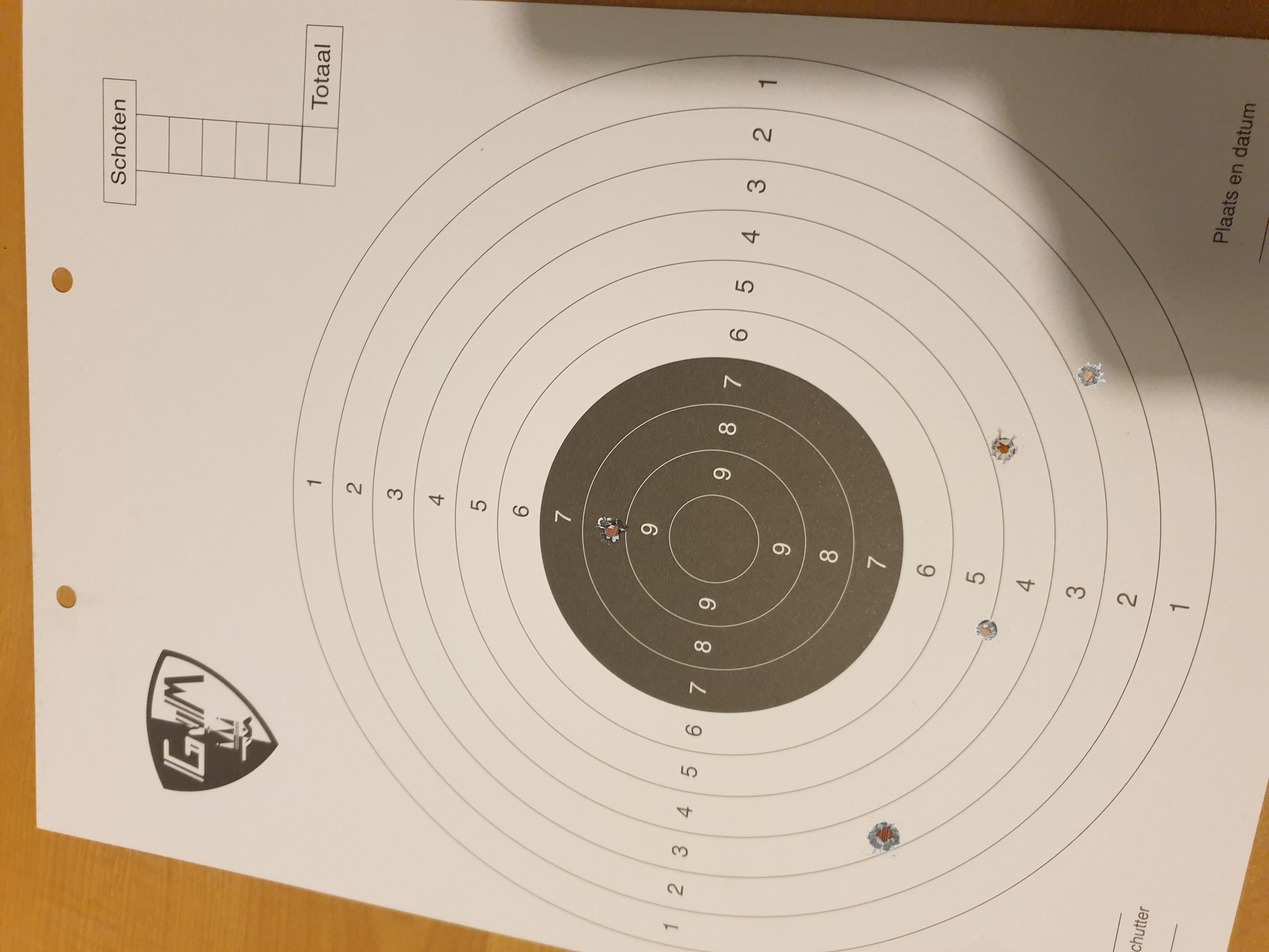hole: (866, 821, 900, 855), (989, 427, 1019, 464), (595, 515, 629, 544), (1075, 361, 1105, 388), (973, 619, 998, 641)
